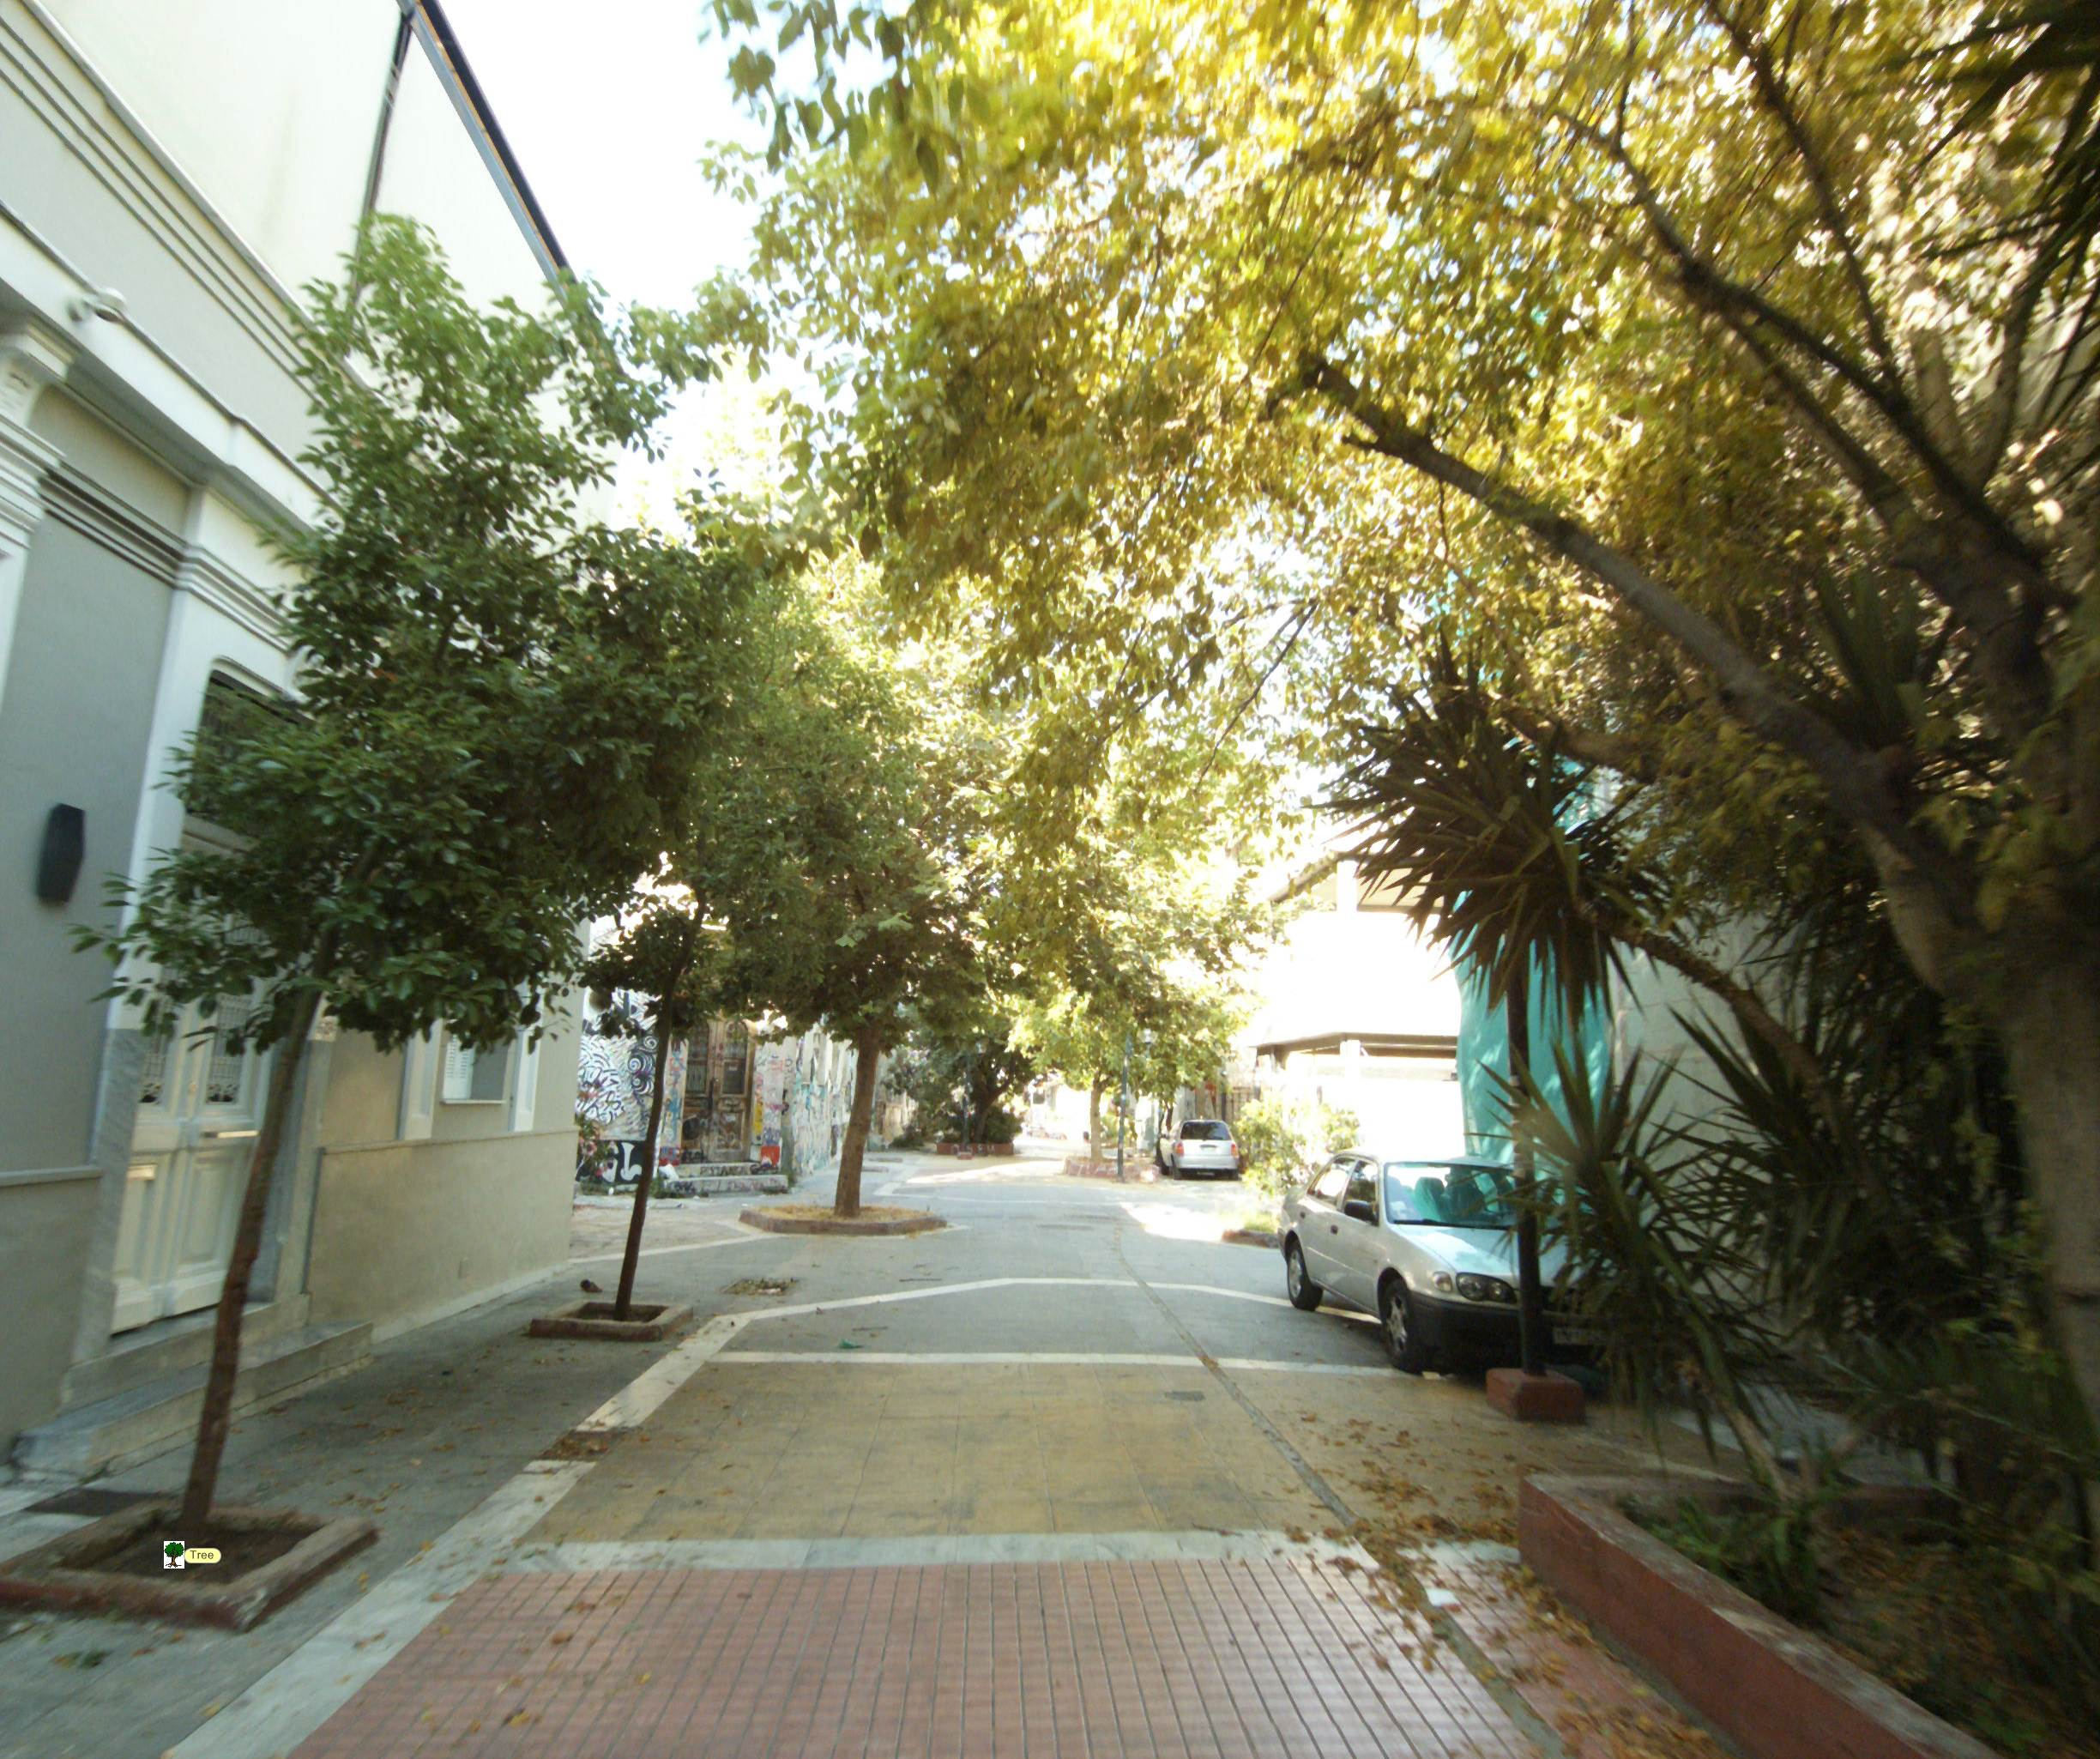tree: (131, 134, 640, 1595)
